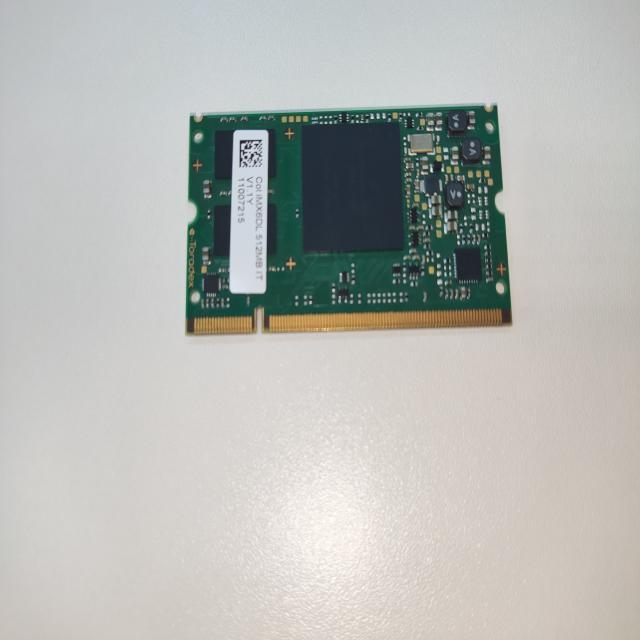som: (178, 94, 525, 341)
